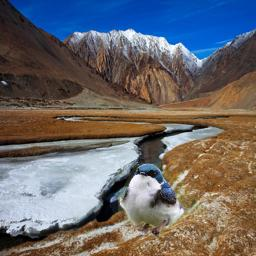Swallow: (118, 163, 202, 237)
